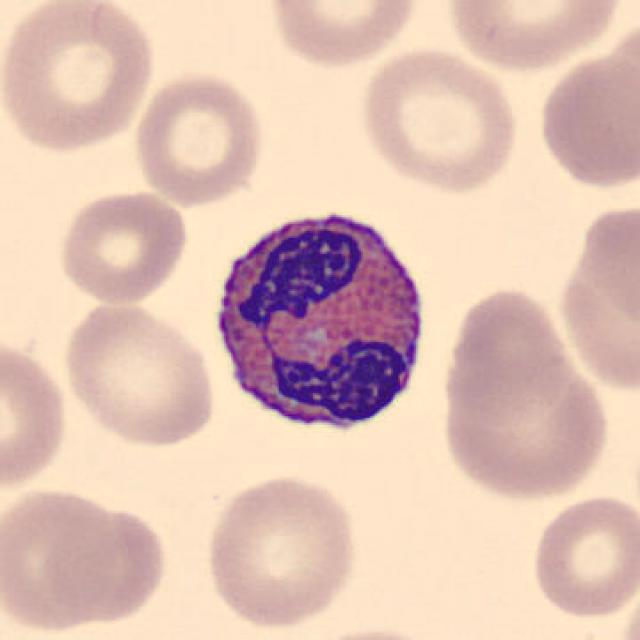Eosinophil: (203, 194, 439, 451)
RBC: (436, 348, 615, 502), (201, 469, 363, 631), (356, 44, 522, 198), (0, 0, 160, 155), (58, 298, 218, 450), (437, 284, 578, 425), (128, 69, 268, 208), (2, 483, 124, 637), (553, 190, 638, 406), (53, 187, 192, 307), (44, 499, 172, 629), (532, 46, 638, 194), (526, 490, 638, 622), (439, 0, 628, 74), (0, 333, 73, 497), (265, 0, 423, 71), (286, 624, 466, 640)
